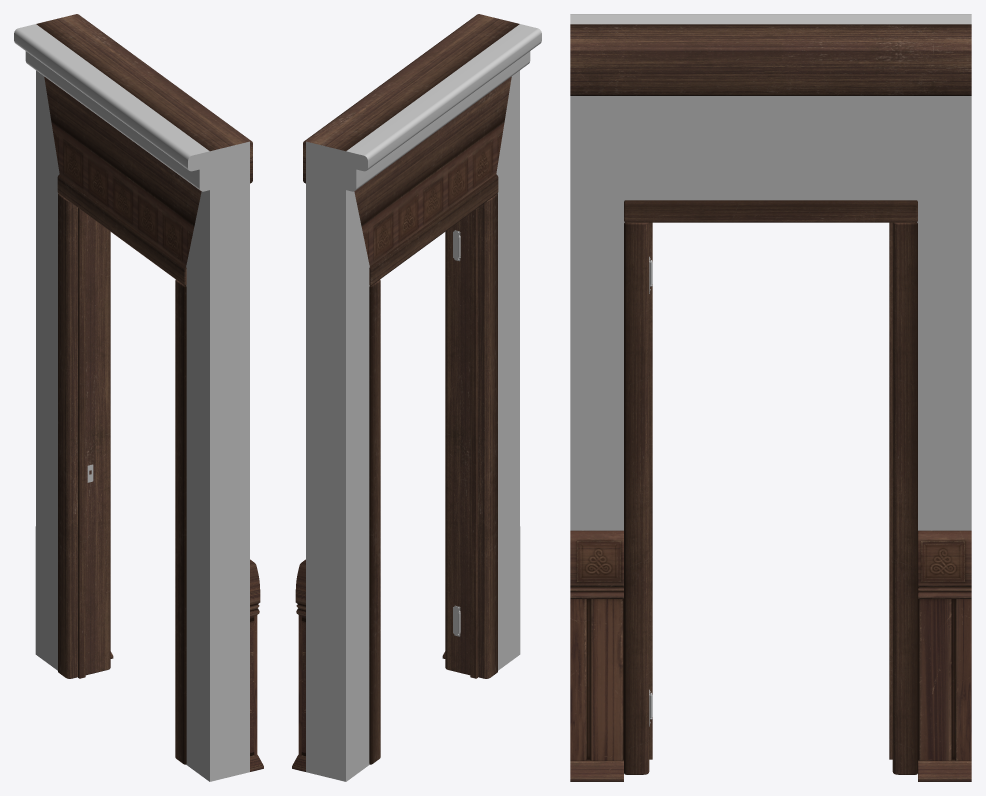
Rendered from R2_Wall_Doorway.fbx.
3 views of the same model, side by side, from view 1: azimuth 30°, elevation 25°; view 2: azimuth 150°, elevation 25°; view 3: azimuth 270°, elevation 25° (orthographic). The views are drawn at different scales.
Parts seen in each view (by area): view 1: SM_Vintage_Wall_Module_Door01_1_5x3_FixedMat_LOD0; view 2: SM_Vintage_Wall_Module_Door01_1_5x3_FixedMat_LOD0; view 3: SM_Vintage_Wall_Module_Door01_1_5x3_FixedMat_LOD0.
Boxes of the visible parts, box(x1,y1,x2,y2) form: SM_Vintage_Wall_Module_Door01_1_5x3_FixedMat_LOD0: box(14, 14, 263, 781); SM_Vintage_Wall_Module_Door01_1_5x3_FixedMat_LOD0: box(292, 14, 541, 781); SM_Vintage_Wall_Module_Door01_1_5x3_FixedMat_LOD0: box(570, 14, 971, 781).
Bounding box in the file's own units: 37.79 × 300 × 150.
